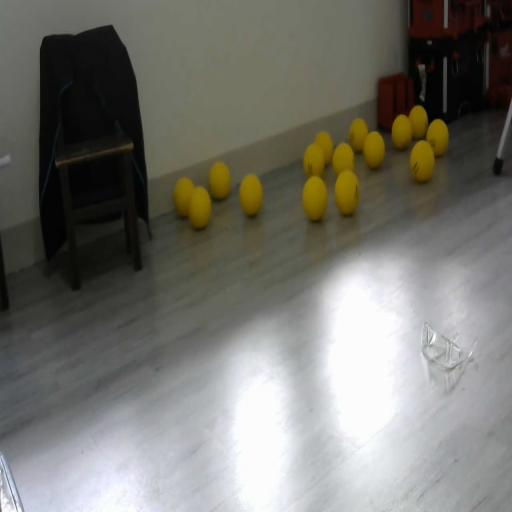FUEL: (301, 174, 328, 221), (334, 169, 360, 216), (238, 172, 264, 218), (410, 140, 434, 182), (173, 176, 195, 218), (426, 118, 449, 156), (332, 141, 356, 176), (209, 161, 230, 200), (363, 131, 385, 168), (349, 117, 369, 153), (392, 114, 412, 150), (408, 104, 428, 140), (314, 131, 334, 166)
